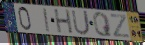0: (17, 6, 32, 31)
H: (53, 9, 75, 35)
I: (42, 7, 52, 33)
Q: (92, 12, 114, 38)
U: (71, 10, 91, 37)
Z: (110, 13, 131, 39)
